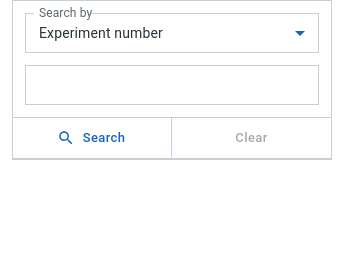
Test case: ImatStackJobTree › shows a retry action when loading fails
Click the button "Search" at (92, 138), box [13, 118, 172, 158]
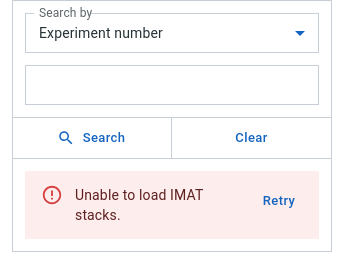
Check: the text "Unable to load IMAT stacks." is shown, box [75, 187, 203, 223]
Click the button "Retry" at (279, 201), box [247, 181, 311, 221]
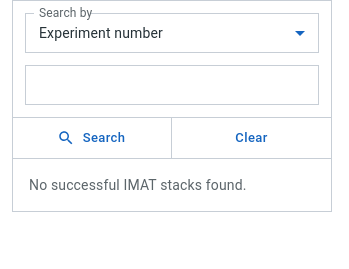
Check: the text "No successful IMAT stacks found." is shown, box [29, 177, 247, 193]
